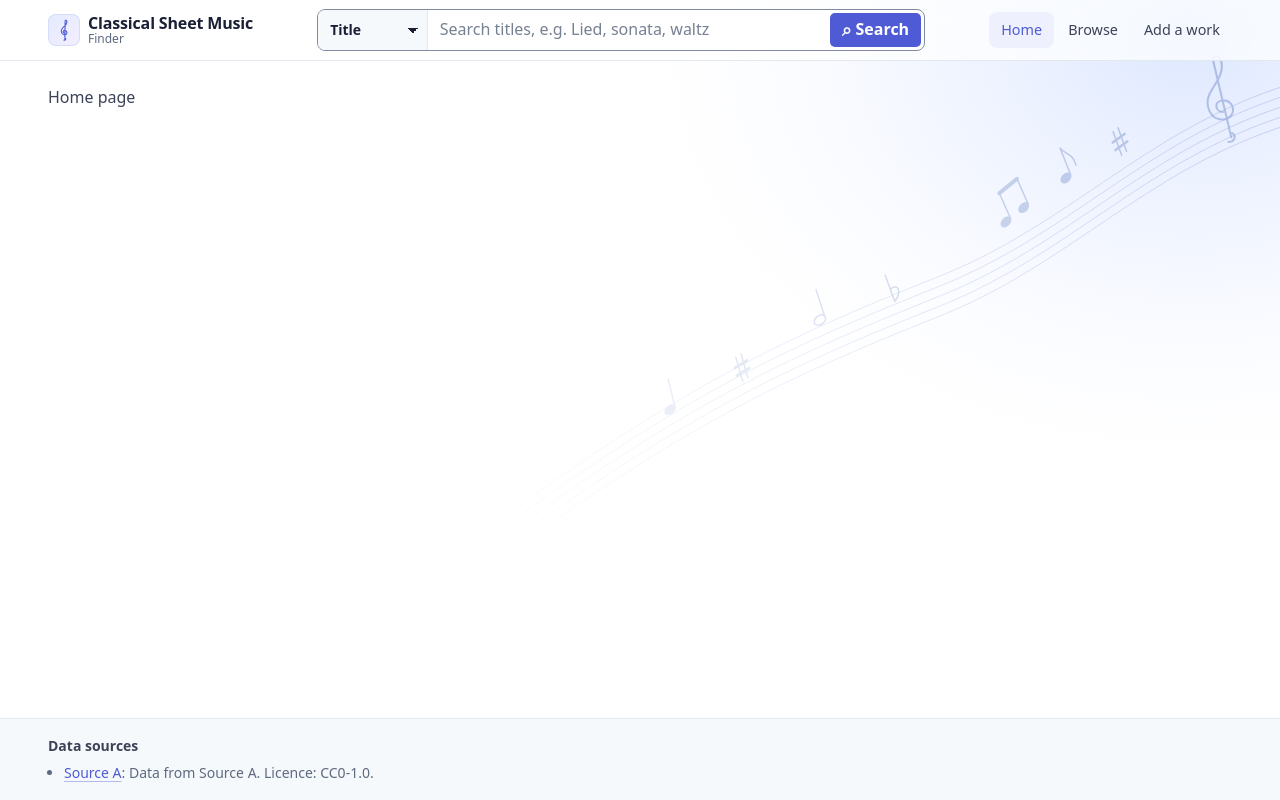
Test: GlobalSearch › searches by composer from another page and opens the catalogue
Select "Composer" in the dropdown named "Search in" at (373, 30), box [318,10,428,50]
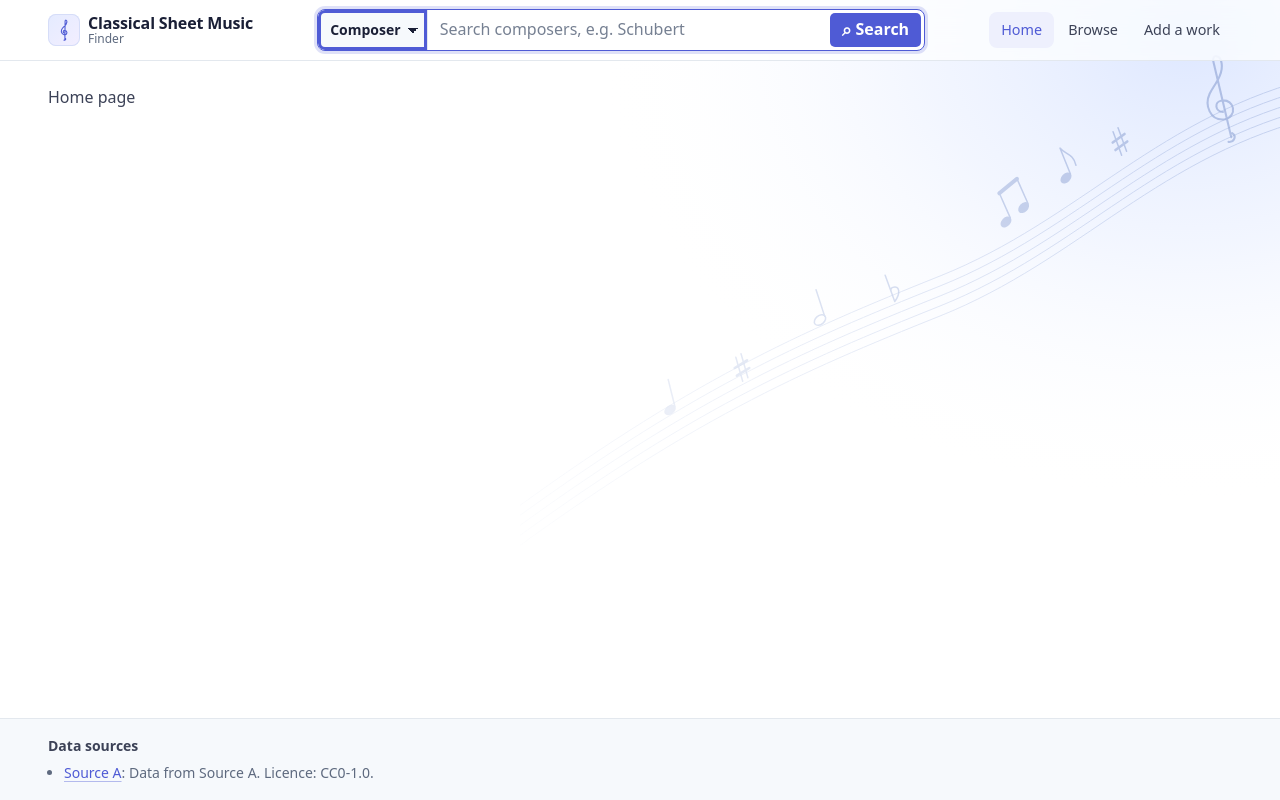
Type "Schubert" into the search field named "Search by composer" at (627, 30), box [428,10,827,50]
Then press Enter
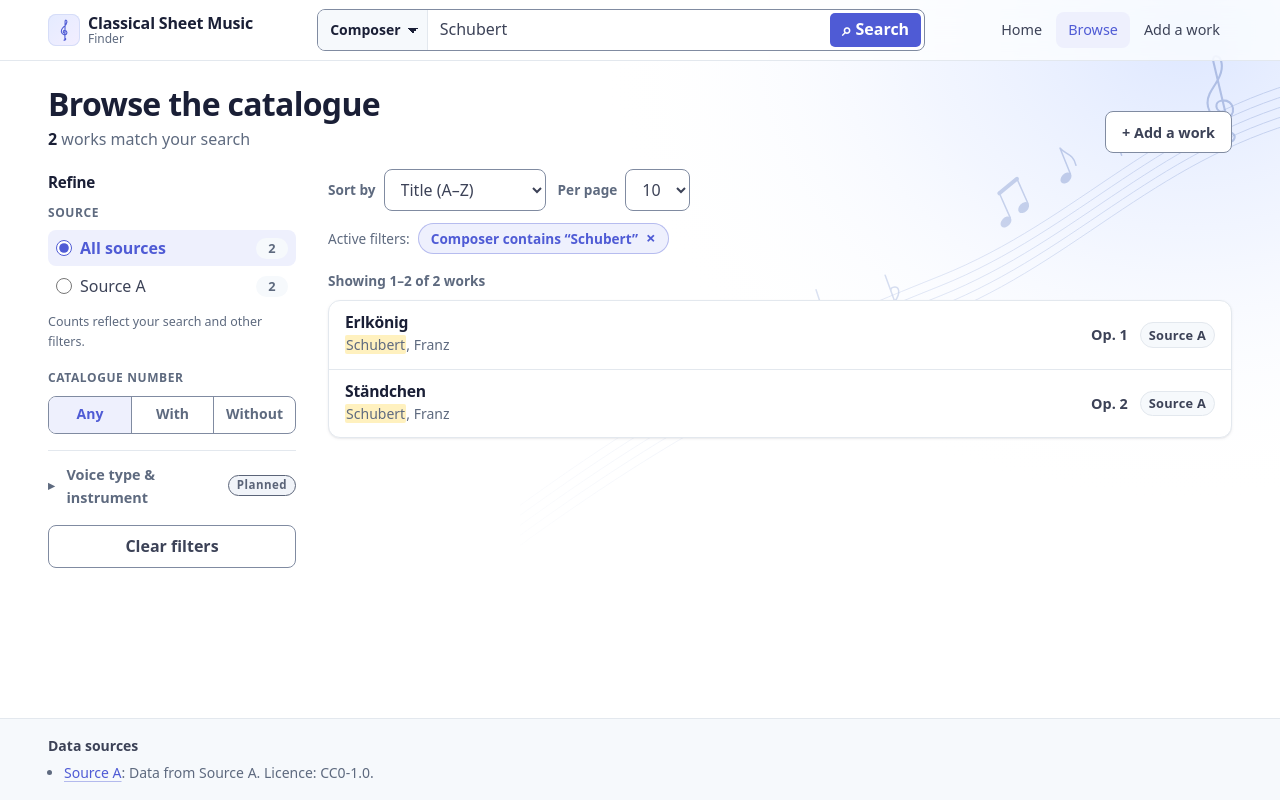
expect the text "Showing 1–2 of 2 works" is shown: met, box [328,270,485,292]
expect the button "Composer contains “Schubert” ×" is shown: met, box [418,223,669,254]
